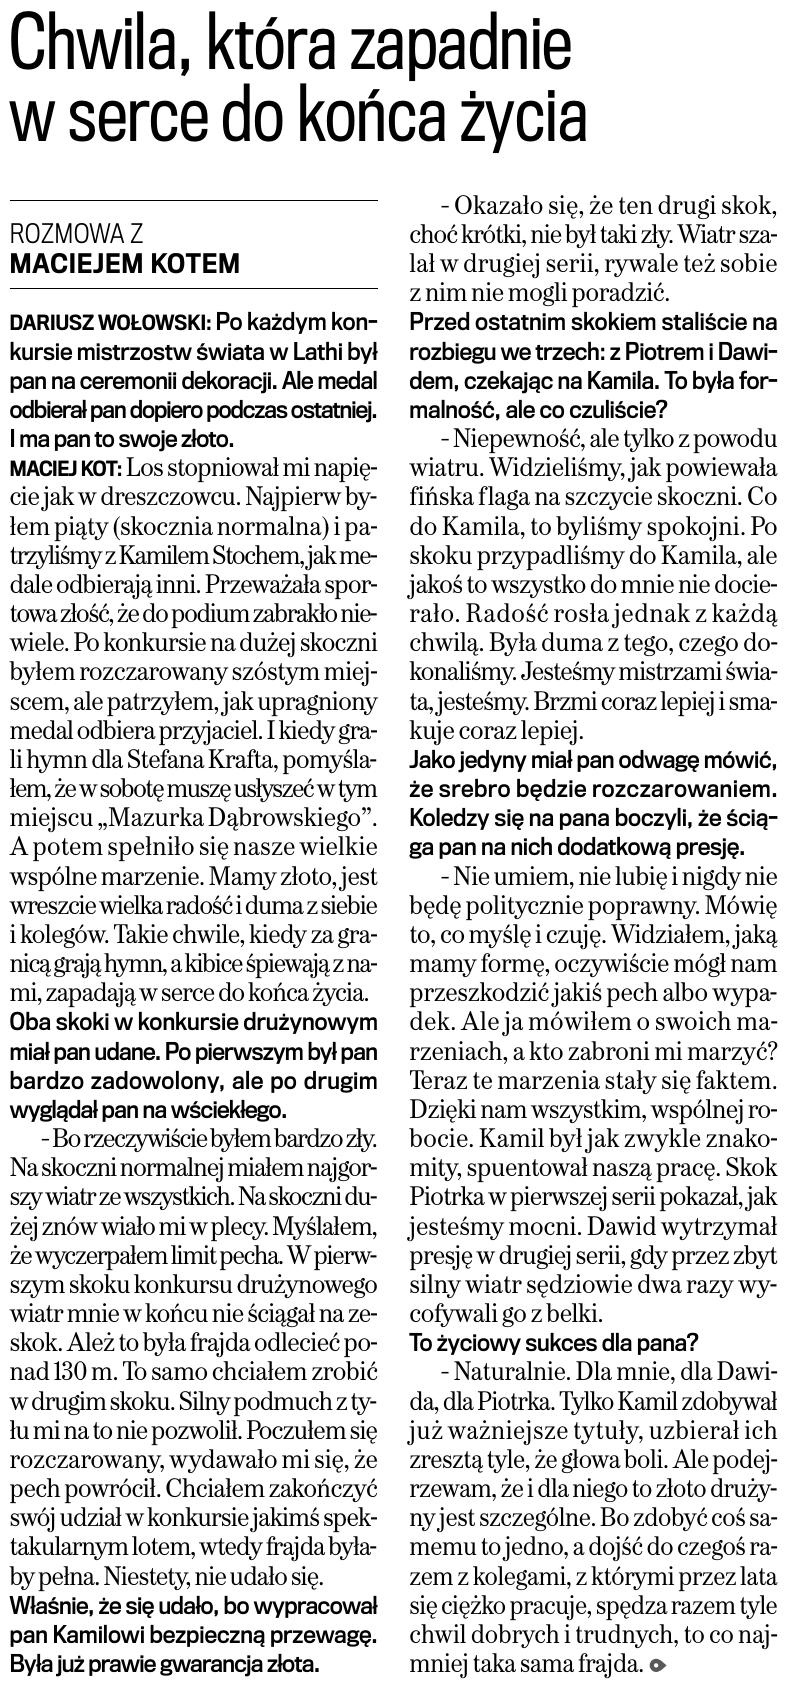body: (398, 181, 786, 1681), (6, 298, 389, 1683)
lead: (9, 208, 267, 284)
title: (5, 2, 620, 163)
